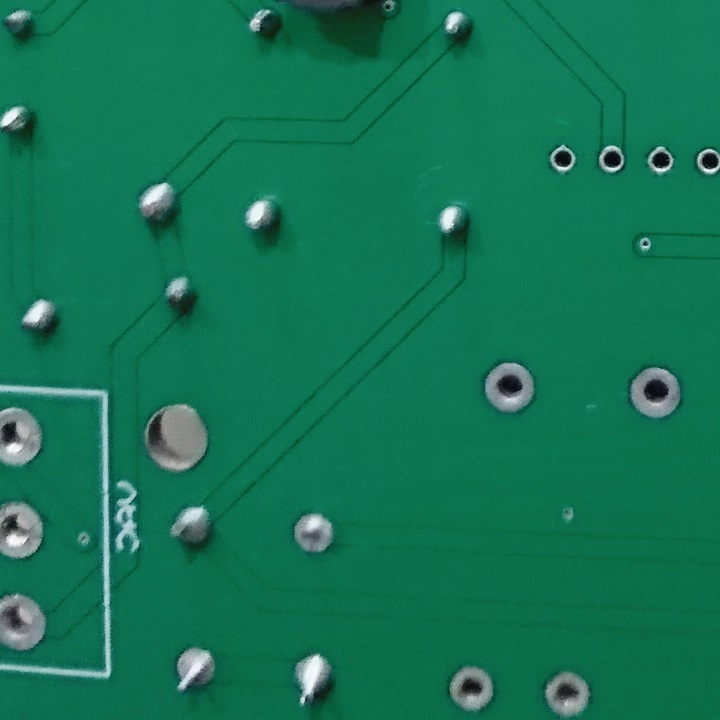F: (626, 362, 687, 427), (479, 357, 538, 417), (1, 497, 52, 565), (1, 399, 49, 469), (168, 642, 221, 703), (1, 591, 50, 654), (445, 662, 499, 716), (542, 668, 593, 720), (288, 510, 336, 556), (544, 141, 578, 179), (596, 143, 627, 179), (644, 144, 675, 177), (693, 143, 720, 179)
